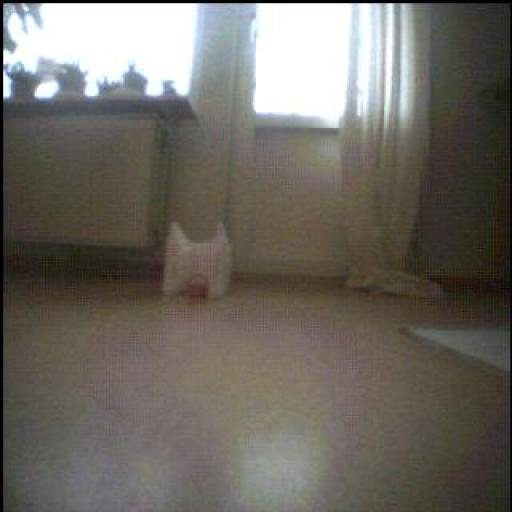Basket: (188, 275, 209, 299)
